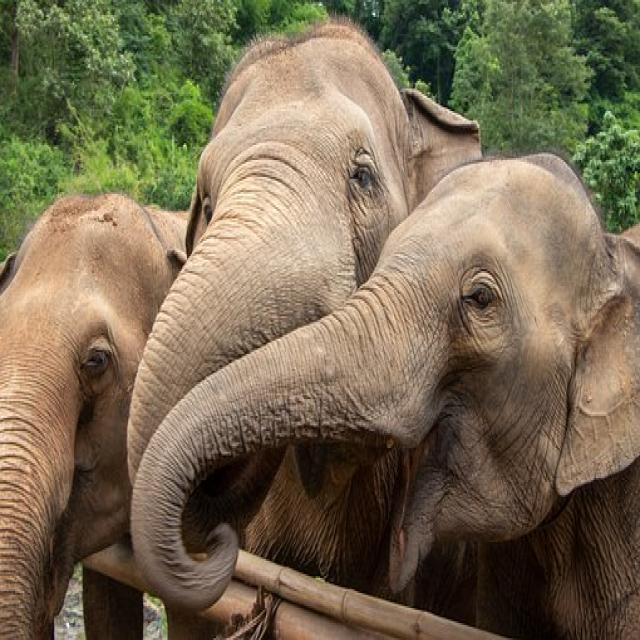Elephant: (126, 133, 639, 640), (118, 3, 395, 640), (2, 169, 179, 640)
